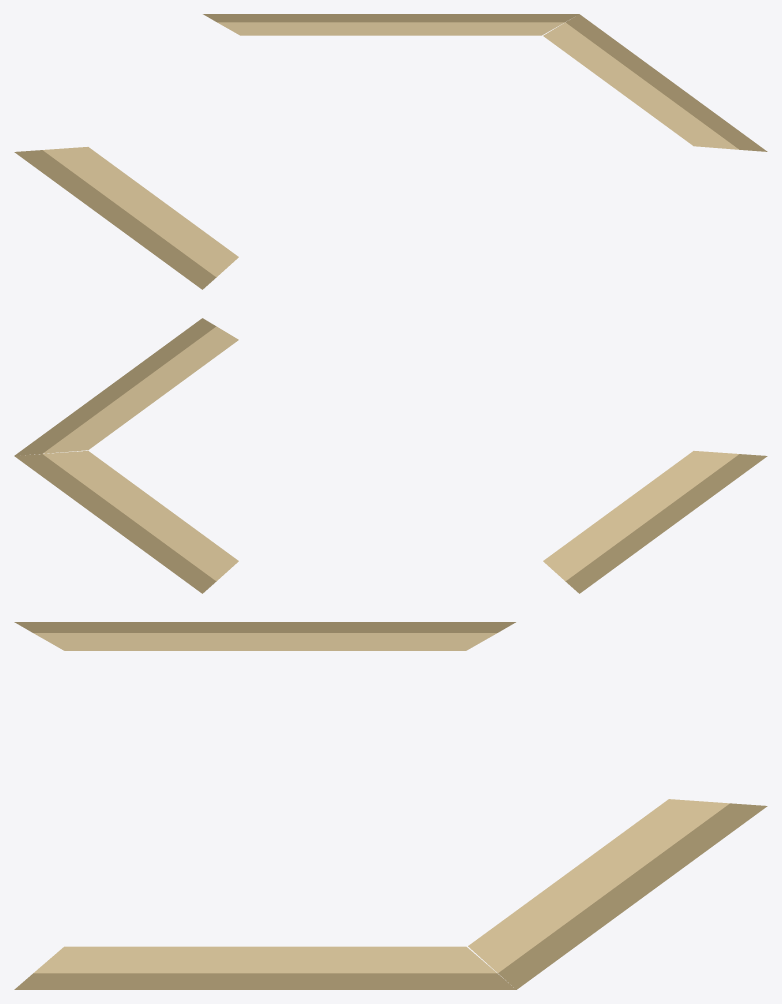
Rendered from SHORE_11.fbx.
3 views of the same model, one above another, from view 1: azimuth 30°, elevation 25°; view 2: azimuth 150°, elevation 25°; view 3: azimuth 270°, elevation 25° (orthographic). The views are drawn at different scales.
Visible parts, largest first — view 1: Beach.012, Beach.010, Beach.011, Wet_sand.012, Wet_sand.010, Wet_sand.011; view 2: Beach.011, Beach.012, Beach.010, Wet_sand.011, Wet_sand.012, Wet_sand.010; view 3: Beach.010, Beach.011, Wet_sand.010, Beach.012, Wet_sand.011, Wet_sand.012.
Boxes of the visible parts, x1,y1,x2,y2 form: Beach.012: (43,147,238,277); Beach.010: (543,22,739,149); Beach.011: (217,22,564,35); Wet_sand.012: (14,150,216,289); Wet_sand.010: (565,14,767,151); Wet_sand.011: (203,14,578,22); Beach.011: (43,451,238,581); Beach.012: (543,451,738,581); Beach.010: (42,326,238,453); Wet_sand.011: (14,454,216,593); Wet_sand.012: (565,454,767,593); Wet_sand.010: (14,318,216,455); Beach.010: (33,946,496,973); Beach.011: (468,799,729,972); Wet_sand.010: (14,973,516,989); Beach.012: (33,633,496,650); Wet_sand.011: (498,803,767,989); Wet_sand.012: (14,622,515,632).
Size of the model in its own units: 173 by 1.6 by 150.
